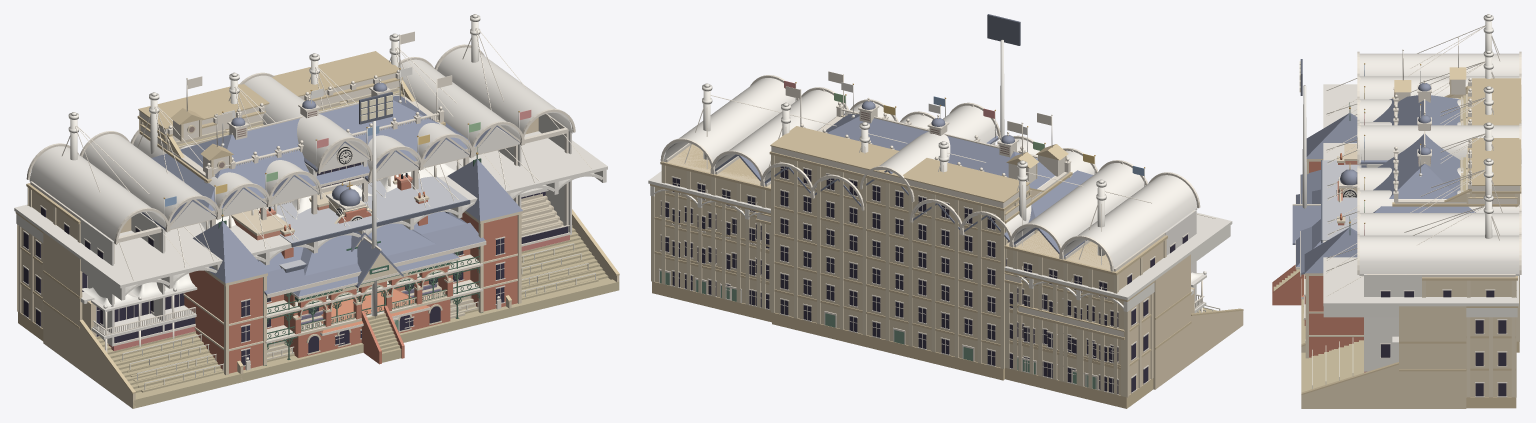
The model's file is park_stands.glb.
3 renders of one model, left to right at view 1: azimuth 30°, elevation 25°; view 2: azimuth 150°, elevation 25°; view 3: azimuth 270°, elevation 25°, orthographic. The views are drawn at different scales.
Parts seen in each view (by area): view 1: park_arch_stand, park_mast_stand, park_victorian, park_old_pavilion, park_tiered_stand, park_roof_terrace_stand, park_gable_stand, park_tent_stand, park_glass_box, park_balcony_stand, park_shed, park_floodlight; view 2: park_roof_terrace_stand, park_arch_stand, park_mast_stand, park_gable_stand, park_tent_stand, park_tiered_stand, park_balcony_stand, park_floodlight; view 3: park_arch_stand, park_mast_stand, park_roof_terrace_stand, park_victorian, park_tiered_stand, park_old_pavilion, park_glass_box, park_balcony_stand, park_floodlight, park_gable_stand.
Boxes of the visible parts, x1,y1,x2,y2 form: park_arch_stand: [26, 44, 598, 392]; park_mast_stand: [14, 14, 619, 408]; park_victorian: [183, 147, 522, 375]; park_old_pavilion: [259, 173, 459, 364]; park_tiered_stand: [151, 79, 476, 229]; park_roof_terrace_stand: [137, 31, 415, 157]; park_gable_stand: [131, 124, 547, 378]; park_tent_stand: [82, 67, 511, 382]; park_glass_box: [231, 176, 470, 318]; park_balcony_stand: [139, 75, 501, 370]; park_shed: [320, 289, 430, 345]; park_floodlight: [359, 92, 392, 318]; park_roof_terrace_stand: [769, 86, 1044, 380]; park_arch_stand: [660, 75, 1220, 405]; park_mast_stand: [648, 83, 1243, 408]; park_gable_stand: [710, 89, 1123, 393]; park_tent_stand: [755, 82, 1206, 407]; park_tiered_stand: [817, 97, 1093, 233]; park_balcony_stand: [817, 71, 1072, 367]; park_floodlight: [987, 14, 1020, 139]; park_arch_stand: [1311, 51, 1521, 388]; park_mast_stand: [1301, 14, 1518, 408]; park_roof_terrace_stand: [1444, 37, 1521, 352]; park_victorian: [1300, 102, 1363, 358]; park_tiered_stand: [1361, 80, 1475, 212]; park_old_pavilion: [1272, 163, 1357, 325]; park_glass_box: [1321, 144, 1360, 243]; park_balcony_stand: [1305, 49, 1517, 342]; park_floodlight: [1299, 59, 1306, 208]; park_gable_stand: [1311, 77, 1387, 369].
Size of the model in its own units: 77 by 38.2 by 37.02.
